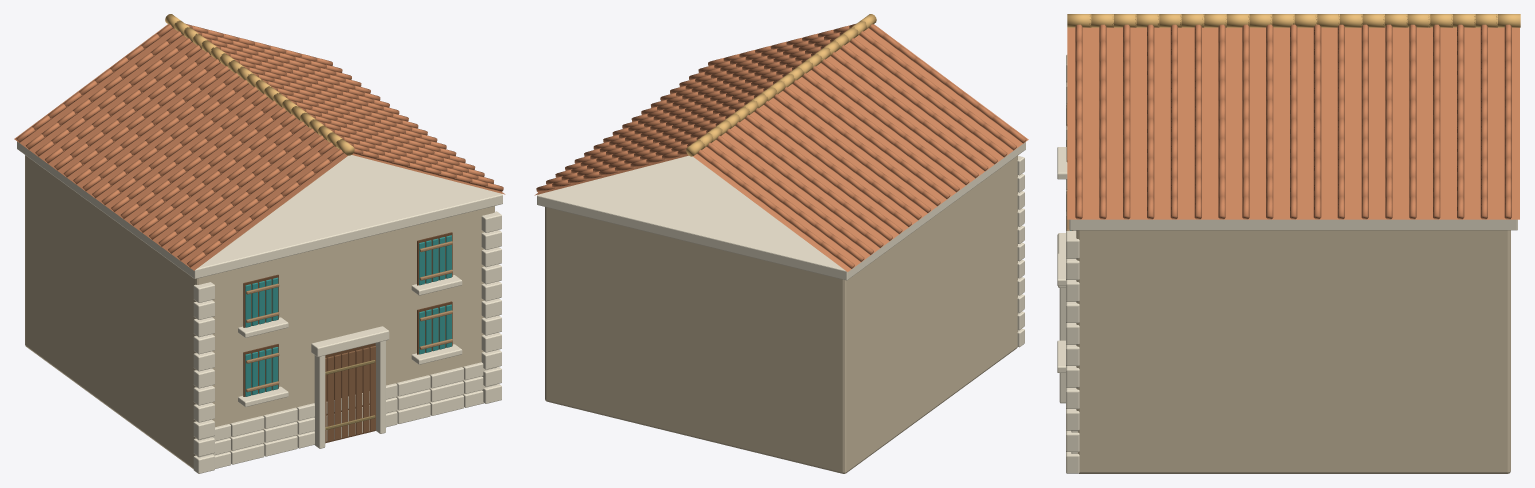
File: harbor-warehouse.glb
3 renders of one model, left to right at view 1: azimuth 30°, elevation 25°; view 2: azimuth 150°, elevation 25°; view 3: azimuth 270°, elevation 25°, orthographic. The views are drawn at different scales.
Parts seen in each view (by area): view 1: harbor-warehouse__limestone, harbor-warehouse__clay, harbor-warehouse__marble, harbor-warehouse__teal, harbor-warehouse__wood, harbor-warehouse__ochre, harbor-warehouse__endgrain, harbor-warehouse__woodlight; view 2: harbor-warehouse__limestone, harbor-warehouse__clay, harbor-warehouse__marble, harbor-warehouse__ochre; view 3: harbor-warehouse__limestone, harbor-warehouse__clay, harbor-warehouse__marble, harbor-warehouse__ochre.
Boxes of the visible parts, x1,y1,x2,y2 form: harbor-warehouse__limestone: (25,155,494,468); harbor-warehouse__clay: (14,23,505,270); harbor-warehouse__marble: (17,141,502,473); harbor-warehouse__teal: (245,235,451,396); harbor-warehouse__wood: (325,346,375,442); harbor-warehouse__ochre: (165,14,354,155); harbor-warehouse__endgrain: (243,232,452,443); harbor-warehouse__woodlight: (246,241,452,392); harbor-warehouse__limestone: (545,155,1017,473); harbor-warehouse__clay: (534,23,1028,271); harbor-warehouse__marble: (537,142,1025,347); harbor-warehouse__ochre: (686,14,876,156); harbor-warehouse__limestone: (1076,230,1510,473); harbor-warehouse__clay: (1067,24,1519,219); harbor-warehouse__marble: (1057,55,1517,473); harbor-warehouse__ochre: (1067,14,1520,27).
Size of the model in its own units: 8.11 by 7.2 by 8.2.
